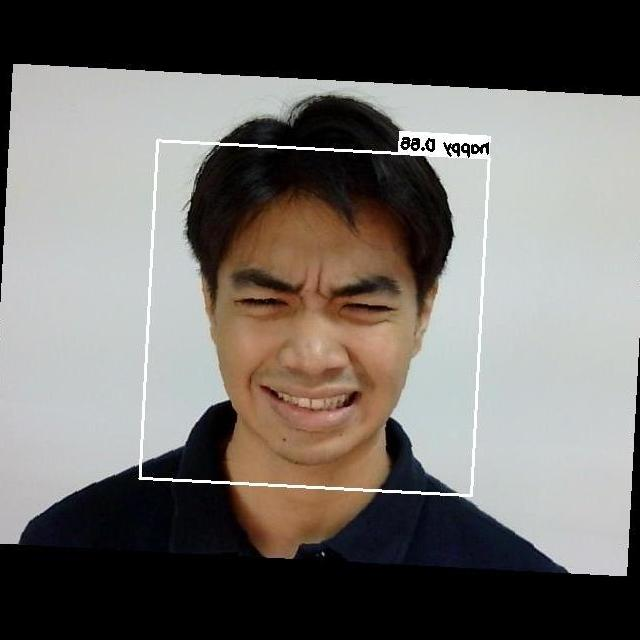Disgust: (217, 234, 412, 434)
